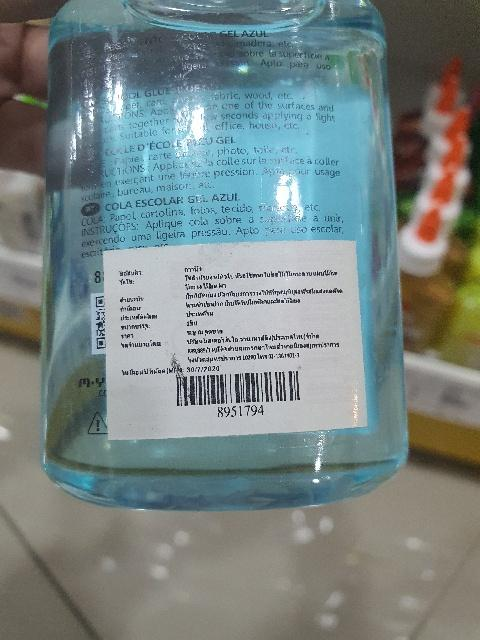Barcode: (171, 367, 310, 417)
